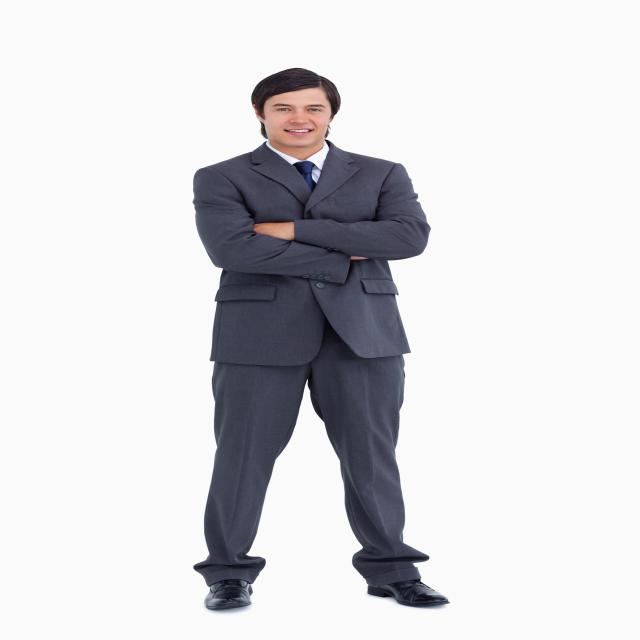human: (183, 60, 472, 620)
